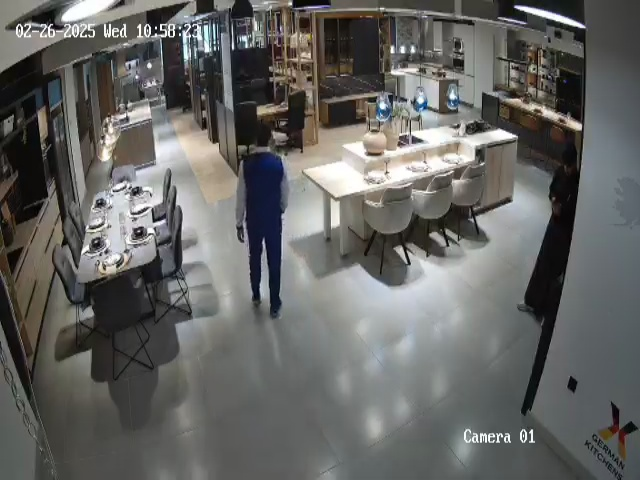employee: (235, 123, 290, 319)
male: (516, 145, 579, 316)
